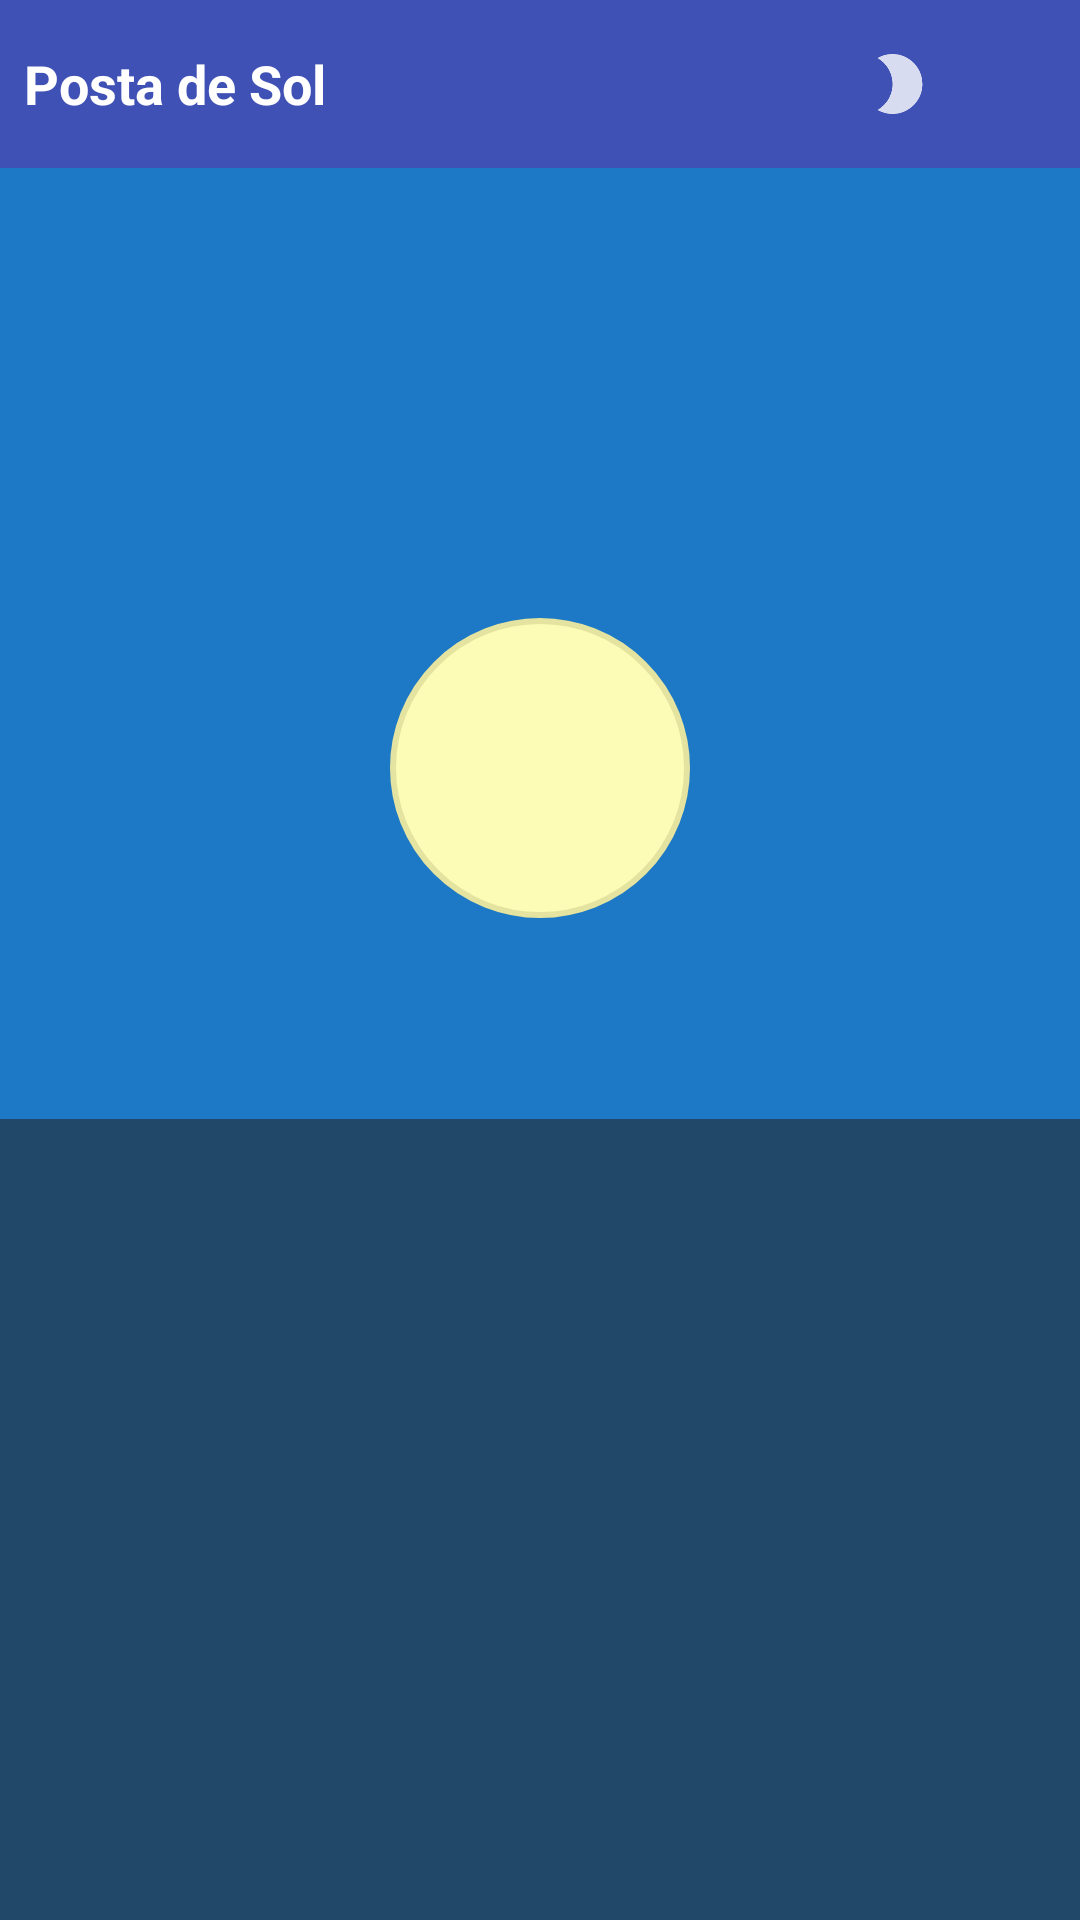

Named icons in this screenshot (1080x1920) and their bounding boxes, Rect(x1, y1, x2, y2):
moon: Rect(878, 54, 923, 114)
